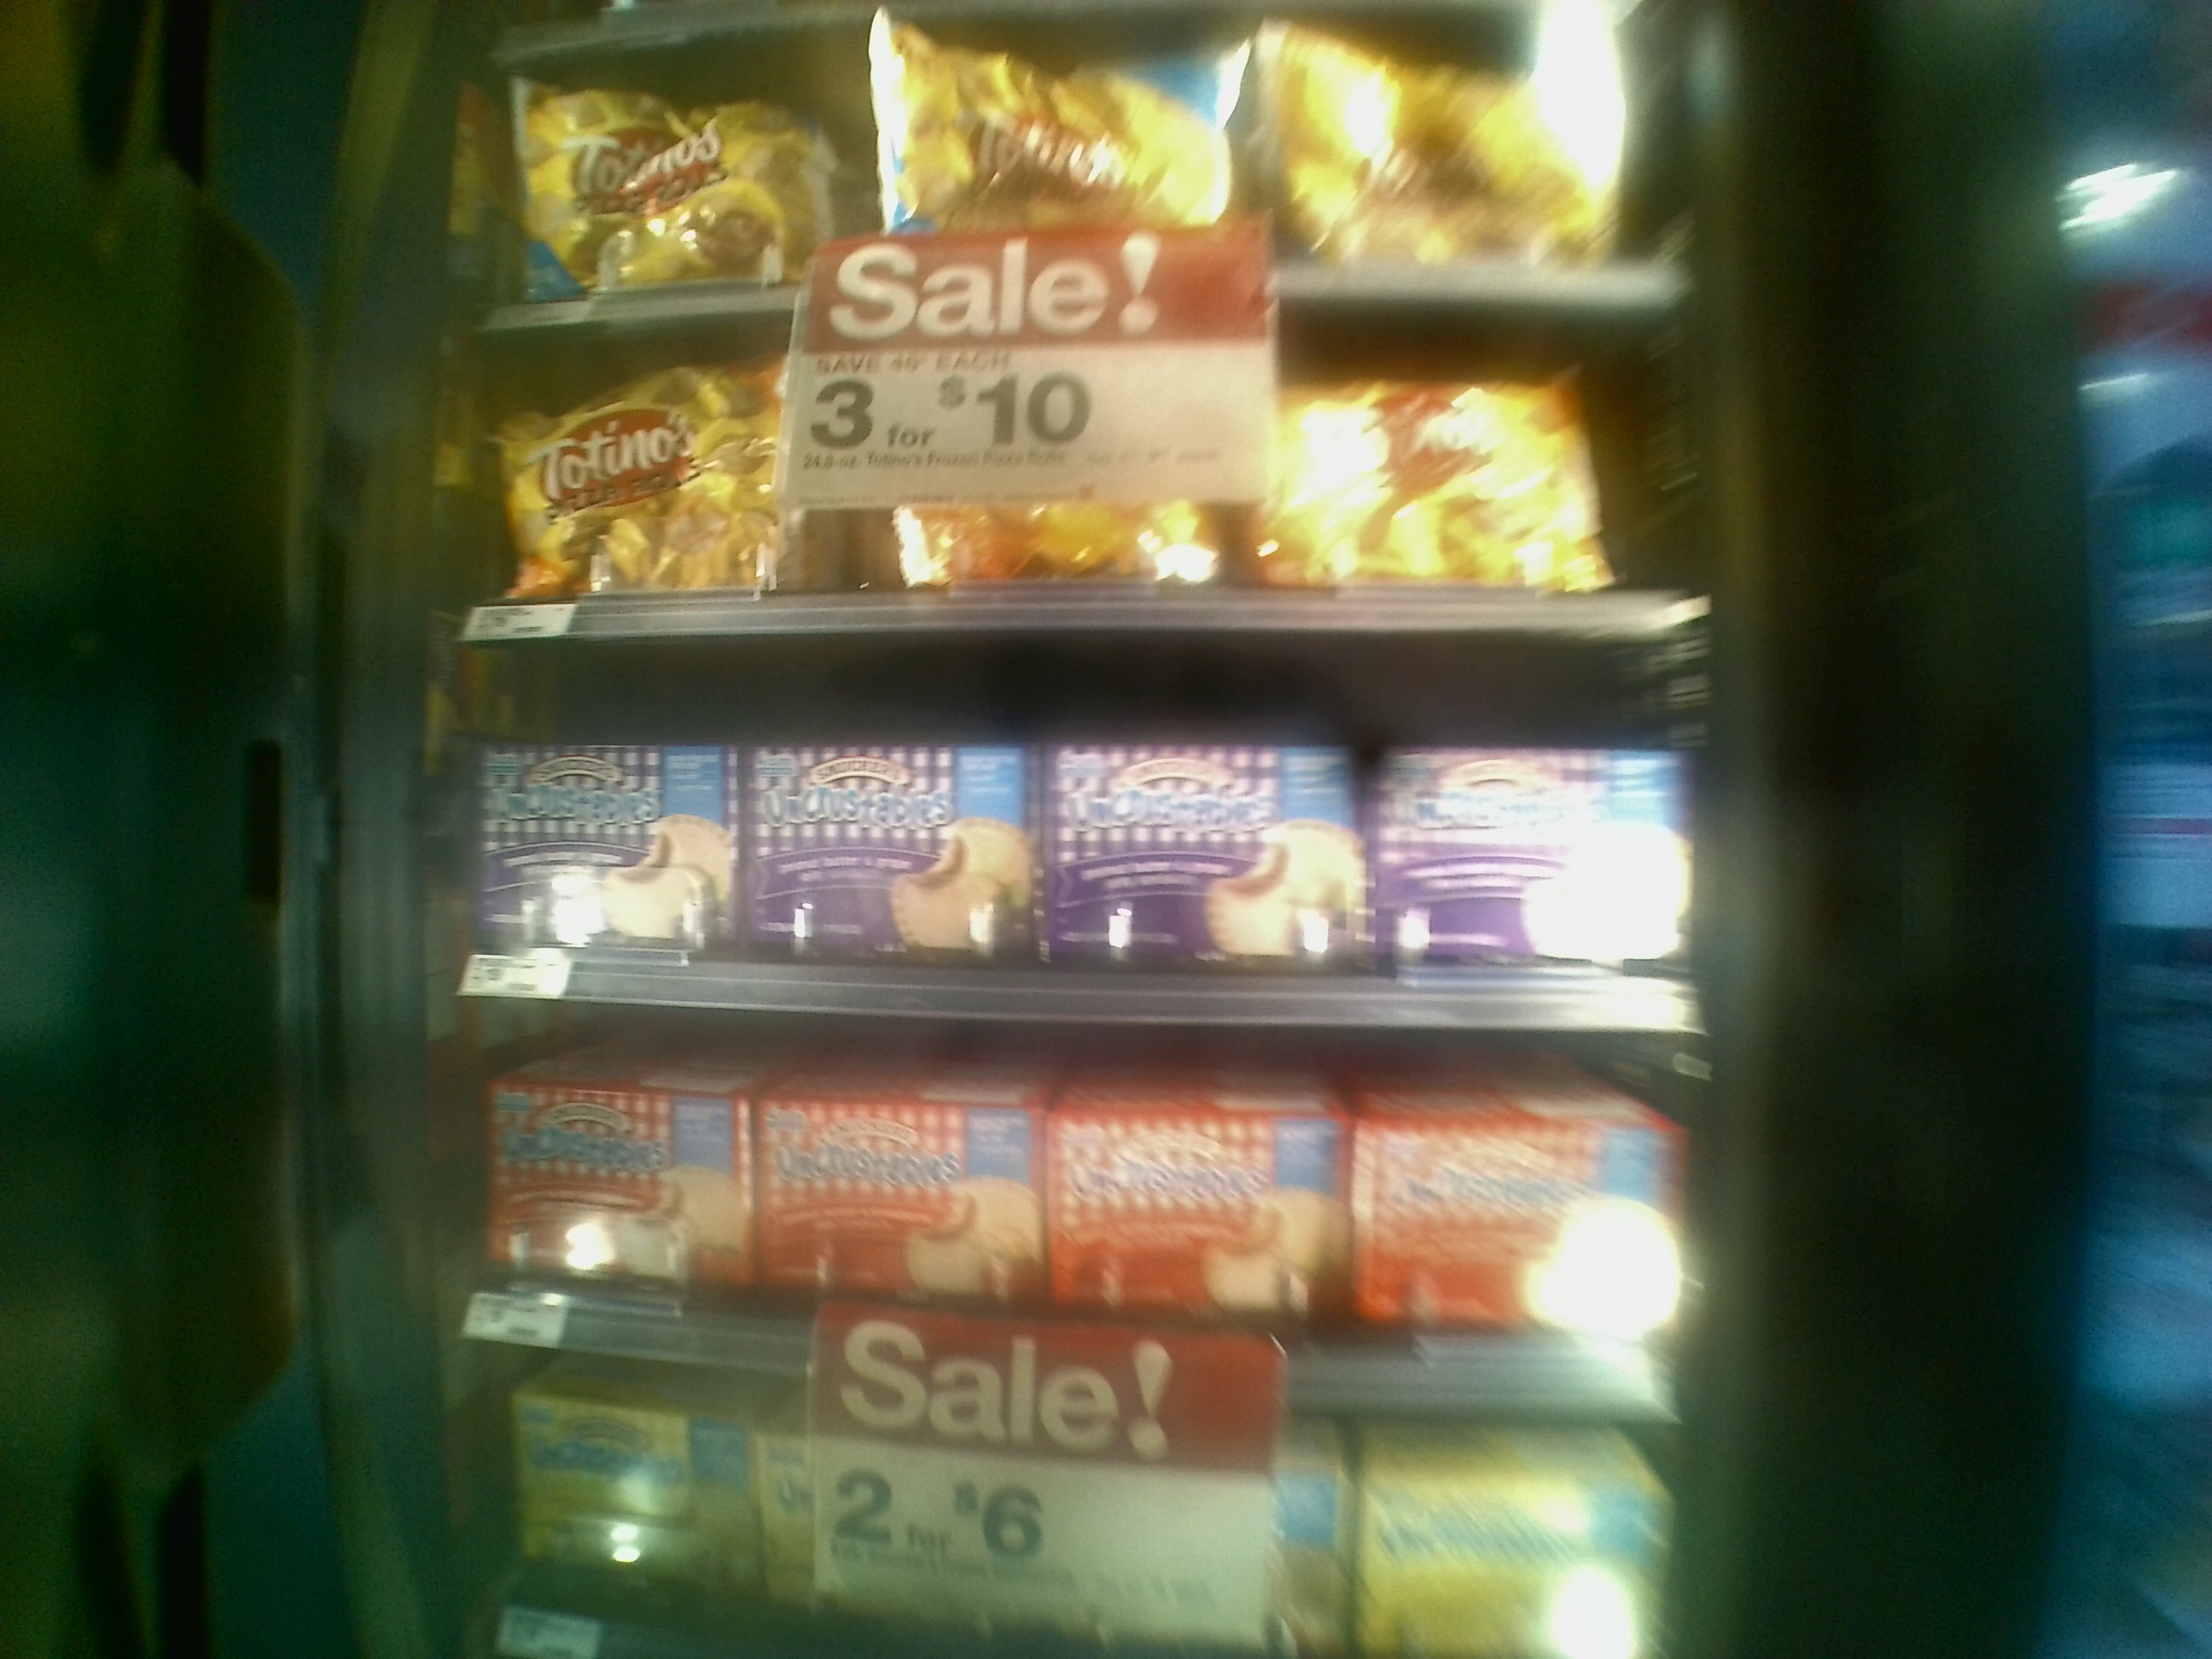shelf: (432, 990, 1698, 1406), (439, 612, 1695, 1028), (446, 293, 1724, 624)
